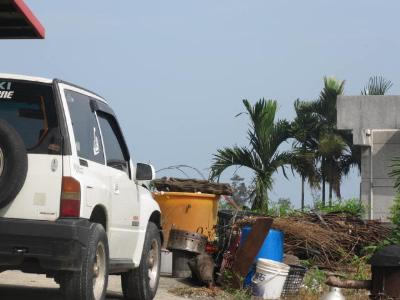bucket: (151, 190, 219, 247), (248, 256, 289, 300)
